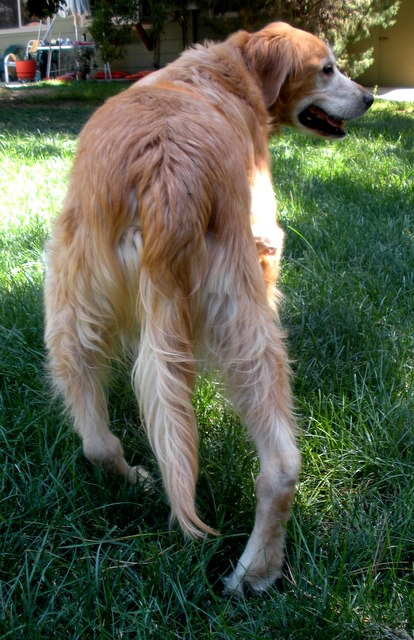dog: (46, 18, 380, 588)
